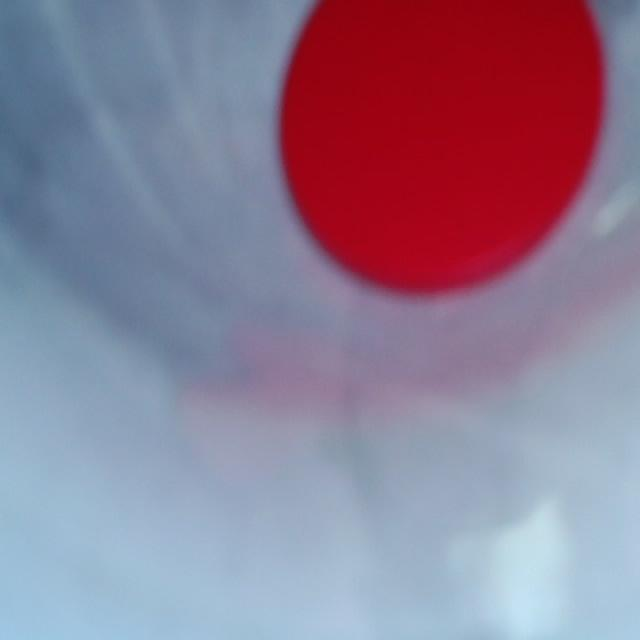circle: (280, 0, 602, 291)
